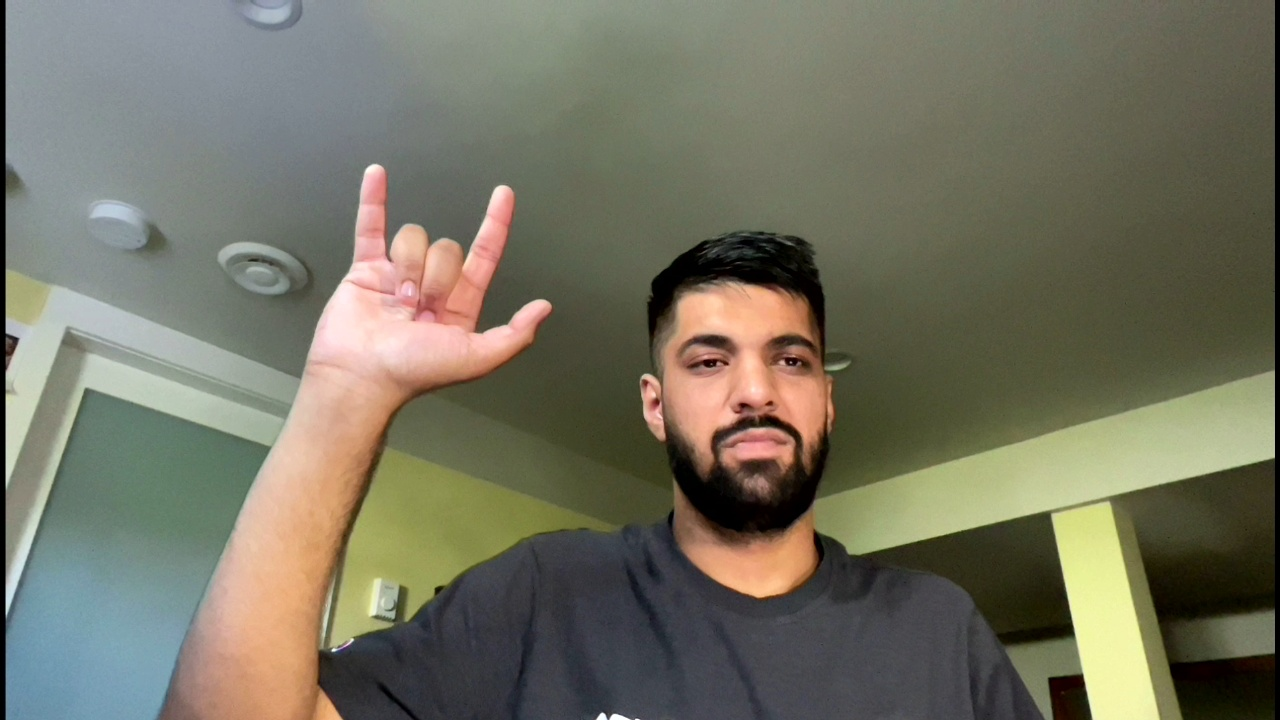HowYouDoing!: (297, 157, 559, 408)
